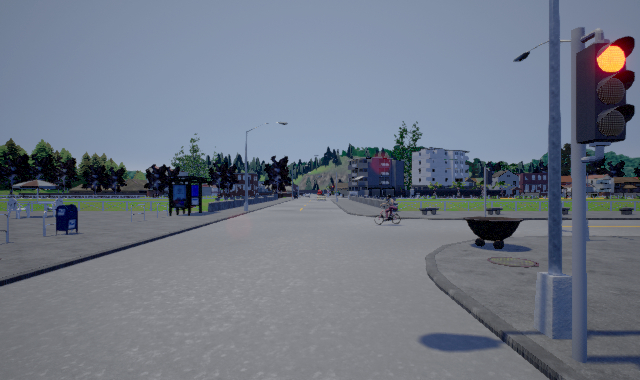bike: (375, 196, 402, 227)
traffic_light: (576, 36, 636, 143)
